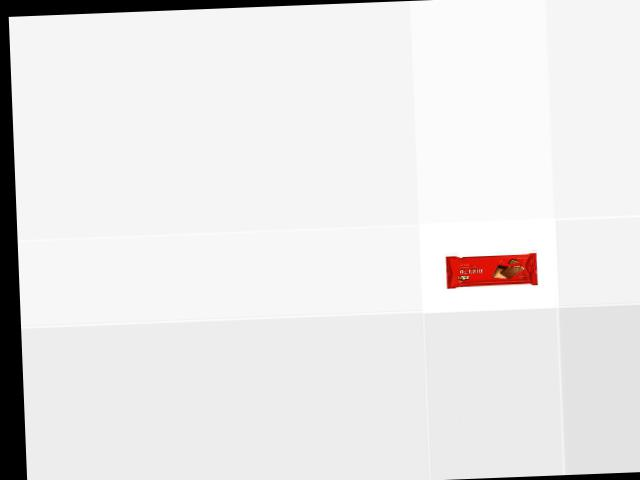chocolate: (442, 251, 536, 288)
